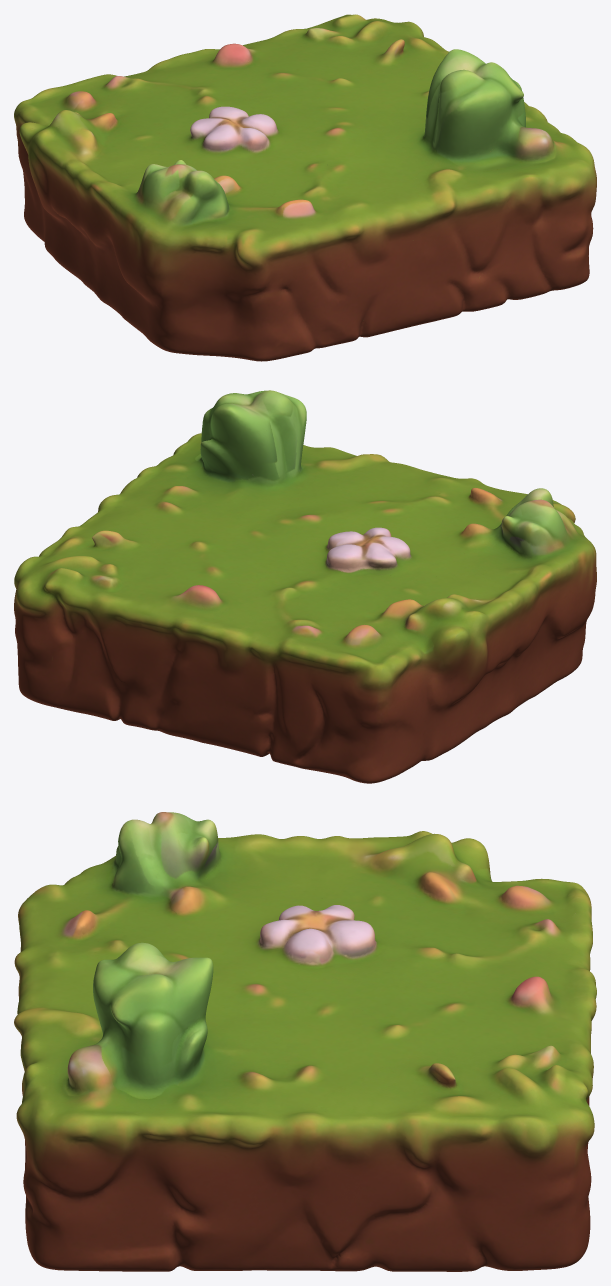
The model's file is Meshy_AI_Mossy_Garden_Cake_1020054700_texture.fbx.
3 views of the same model, one above another, from view 1: azimuth 30°, elevation 25°; view 2: azimuth 150°, elevation 25°; view 3: azimuth 270°, elevation 25° (orthographic). The views are drawn at different scales.
Visible parts, largest first — view 1: Mesh_0; view 2: Mesh_0; view 3: Mesh_0.
Part boxes in pixels (x1=…): Mesh_0: x1=14, y1=14, x2=596, y2=361; Mesh_0: x1=14, y1=390, x2=596, y2=783; Mesh_0: x1=14, y1=812, x2=596, y2=1271.
Bounding box in the file's own units: 188 × 85.74 × 169.
Materials: 1 (1 with a texture image).
